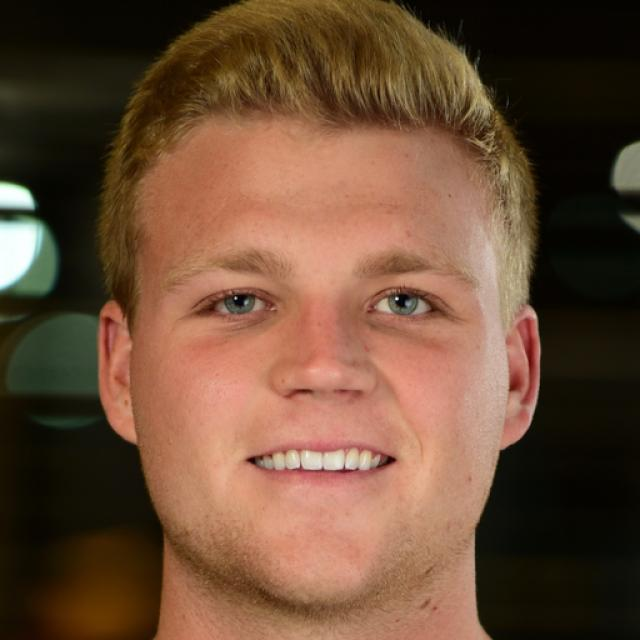happy: (129, 95, 510, 613)
